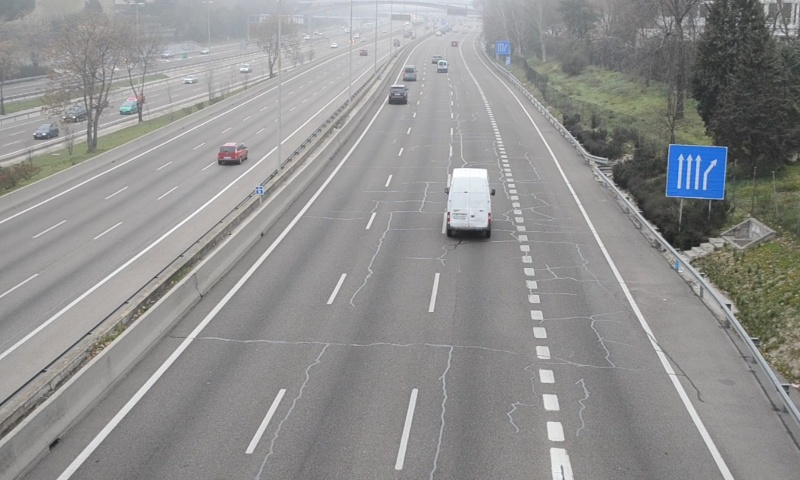car: (390, 86, 408, 105)
van: (446, 167, 492, 236), (402, 64, 415, 82)
